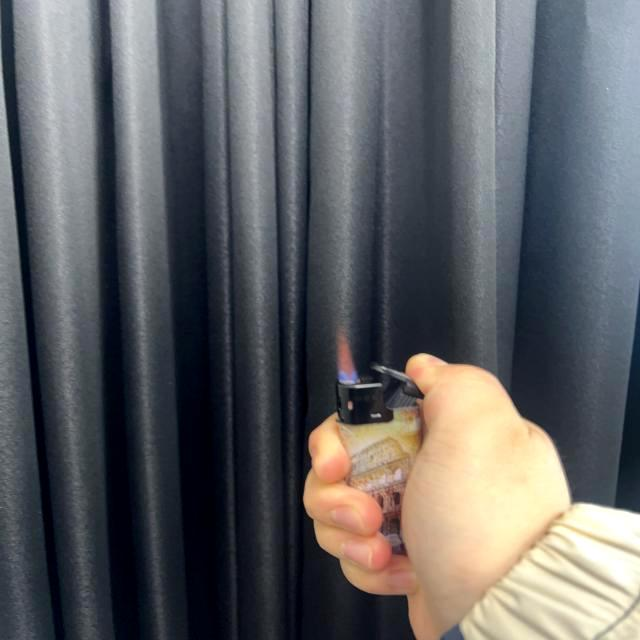fire: (336, 326, 358, 384)
